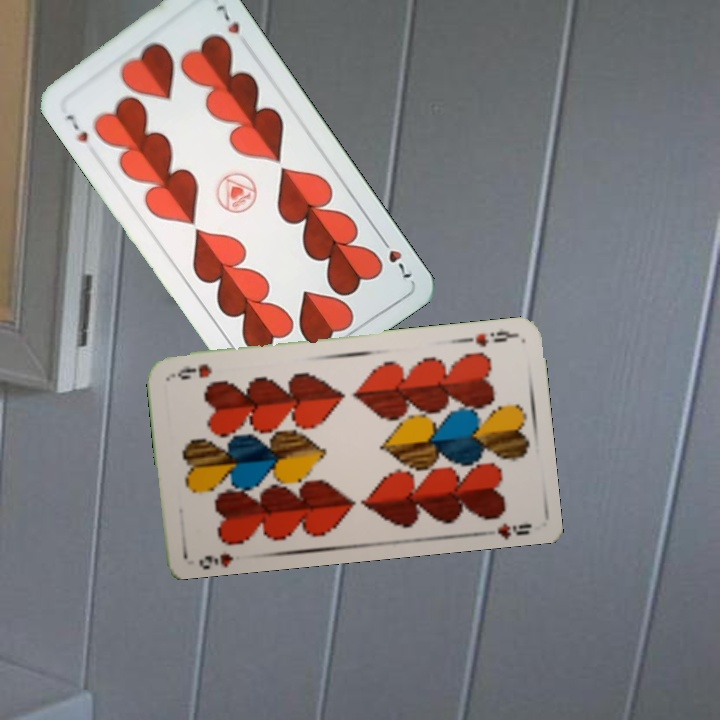H7: (375, 231, 415, 281), (62, 110, 91, 145)
H9: (471, 327, 517, 349), (195, 549, 236, 569)
